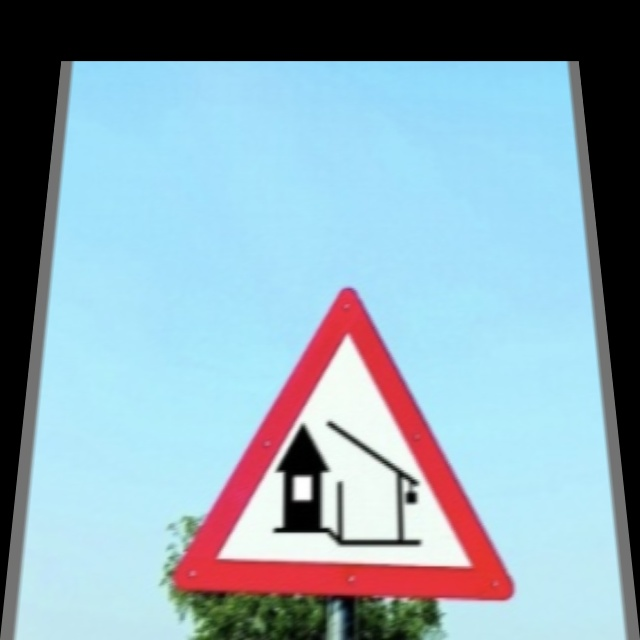Barrier_Ahead: (170, 289, 518, 600)
